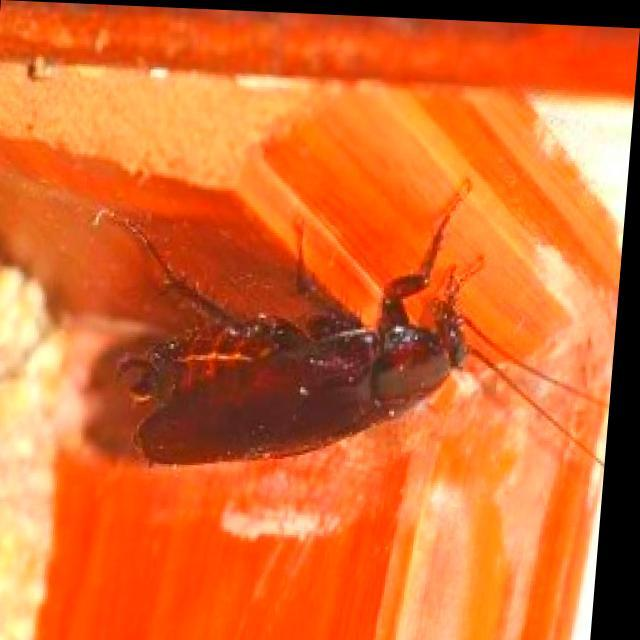cockroach: (96, 182, 501, 530)
